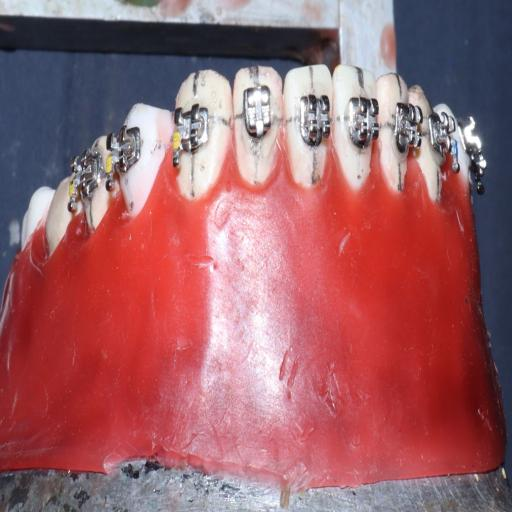correct_brace: (296, 86, 334, 152)
incorrect_brace: (229, 55, 285, 189), (167, 98, 215, 176), (238, 76, 276, 142)
